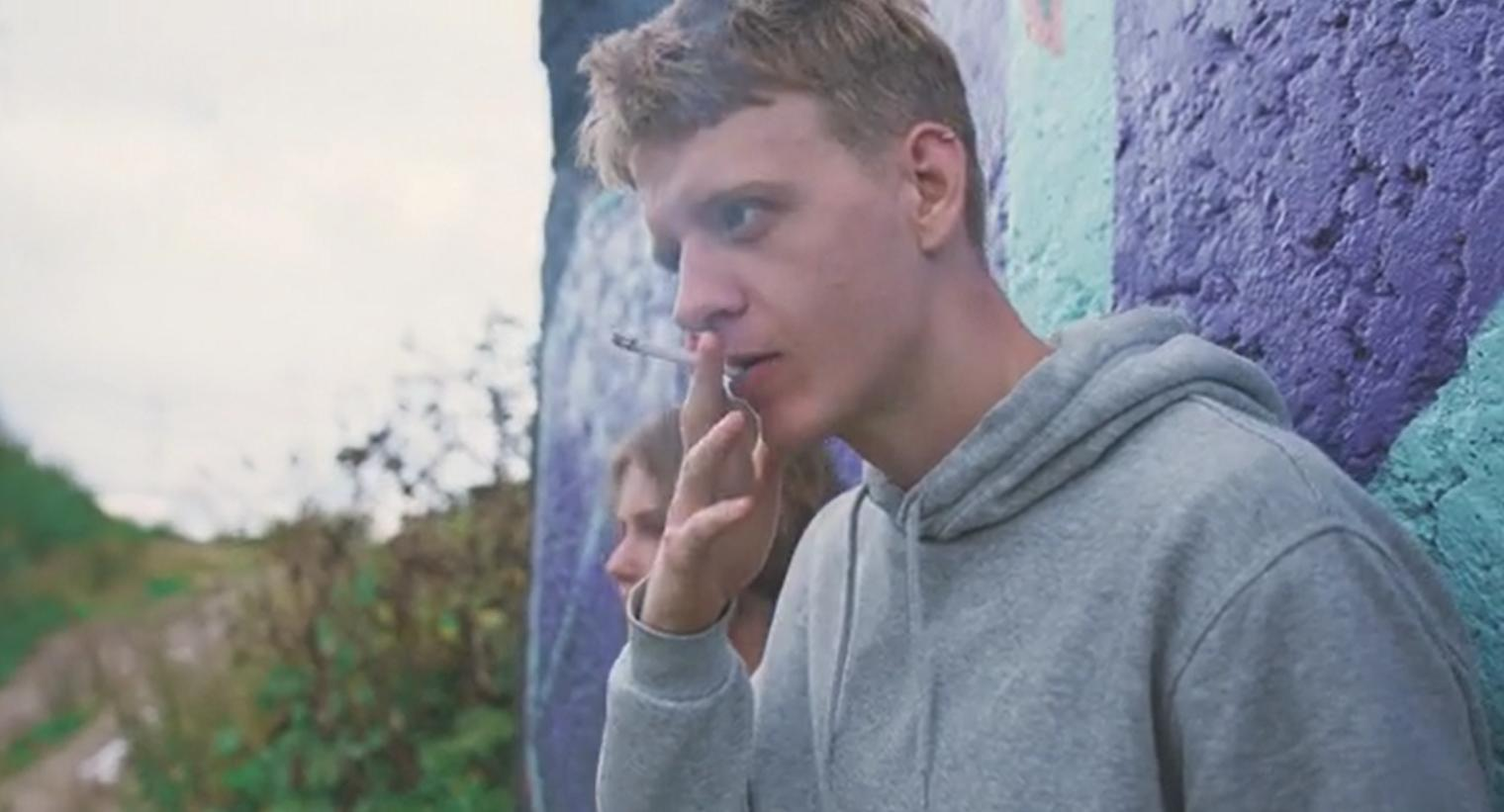smoker: (525, 14, 1091, 659)
